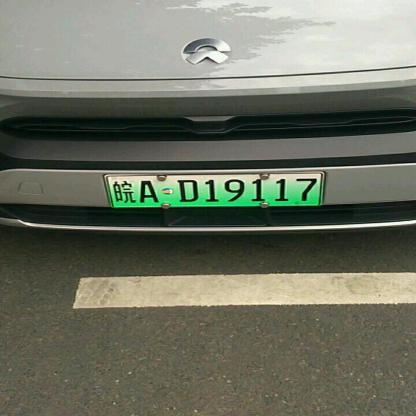lp: (105, 172, 322, 206)
